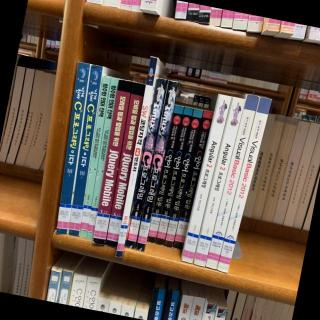book-spine: (216, 96, 272, 273), (204, 94, 260, 270), (192, 97, 246, 267), (179, 94, 232, 264), (114, 56, 158, 259), (134, 80, 179, 252), (124, 78, 168, 249), (104, 81, 146, 248), (91, 79, 133, 245), (66, 65, 103, 237), (56, 62, 90, 235), (172, 110, 214, 249), (163, 108, 203, 248), (85, 77, 119, 240), (146, 104, 185, 244), (154, 107, 193, 245), (79, 75, 111, 238)
